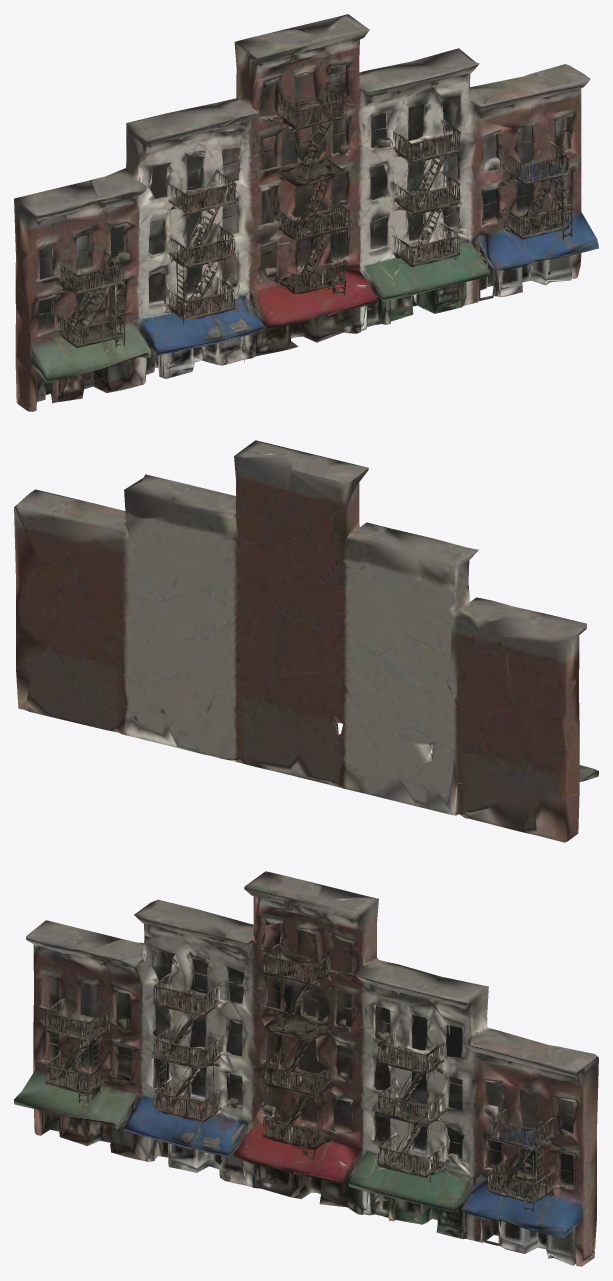
File: row_five_a.glb
3 renders of one model, top to bottom at view 1: azimuth 30°, elevation 25°; view 2: azimuth 150°, elevation 25°; view 3: azimuth 330°, elevation 25°, orthographic.
Visible parts, largest first — view 1: mesh_node; view 2: mesh_node; view 3: mesh_node.
Part boxes in pixels (<box>): mesh_node: <box>14,14,598,411</box>; mesh_node: <box>14,440,598,842</box>; mesh_node: <box>14,871,598,1266</box>.
Bounding box in the file's own units: 31.97 × 17 × 3.5.
Materials: 1 (1 with a texture image).
